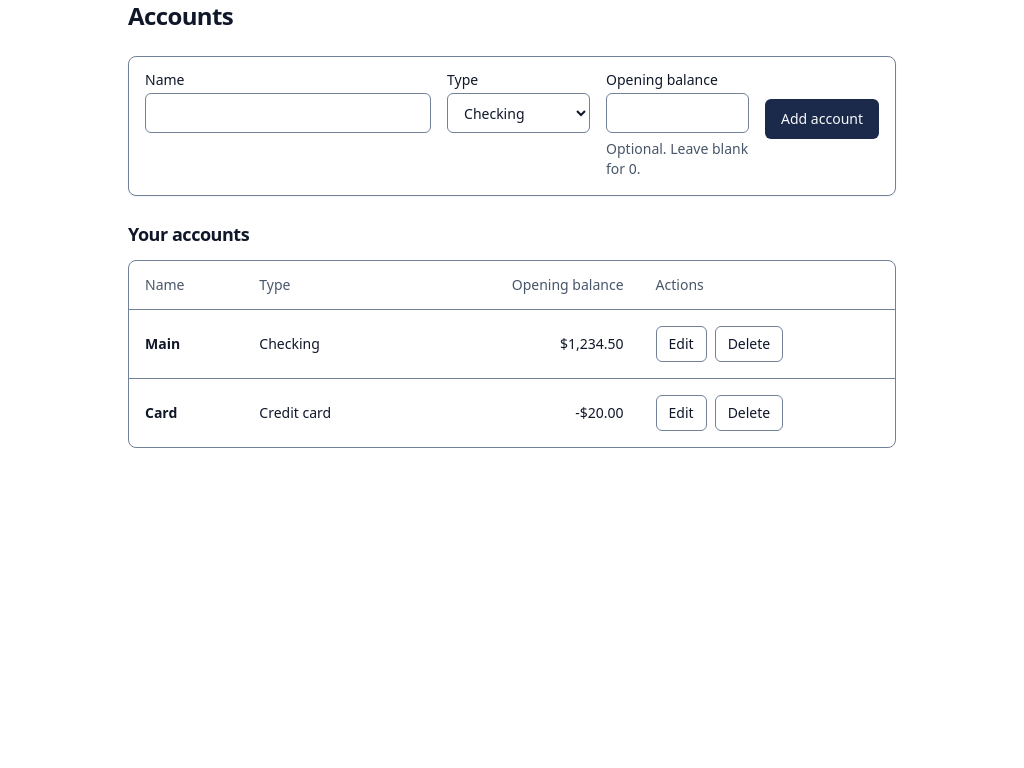
SPEC-010 Story-002 accounts restyle › SPEC-010 T-024 the list is a kit Table and Delete opens an alertdialog with focus on Cancel; Escape cancels; no native dialog
Click the button with aria-label "Delete Card" at (749,412), box left=715, top=394, right=783, bottom=430
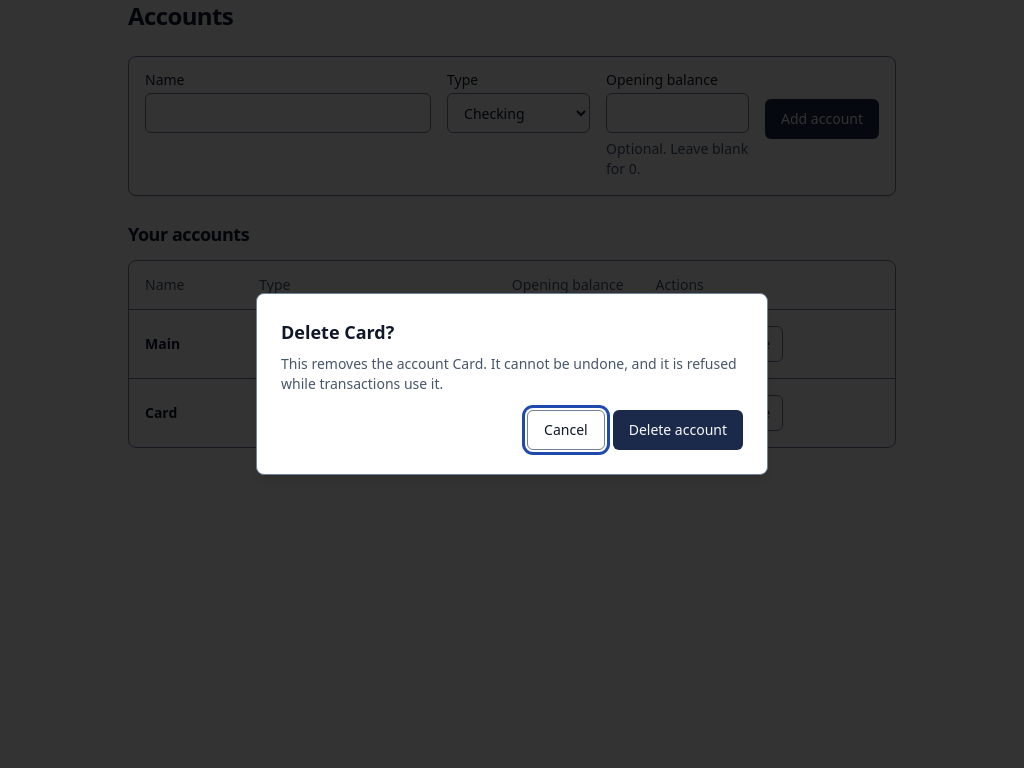
Press Escape in the dialog "Delete Card?", box left=256, top=293, right=768, bottom=475
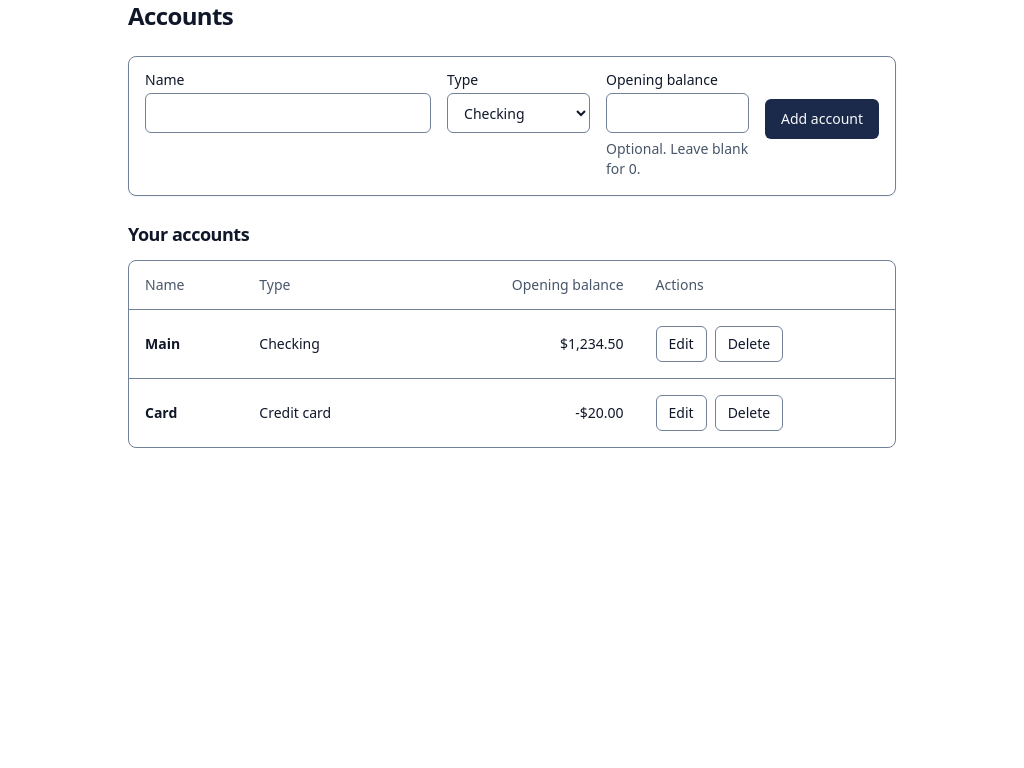
Expected: the dialog is gone
